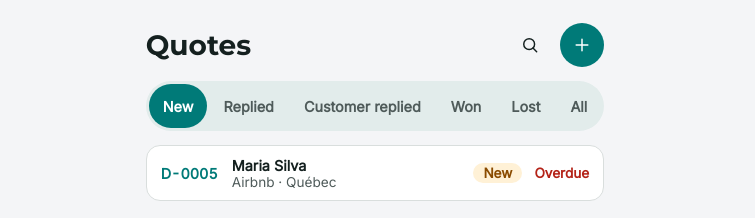
Scenario: QuotesPage › searches name, address, phone and reference ignoring case and accents
Check: the link "D-0005 Maria Silva Airbnb · Québec New Overdue" is shown, box top-left (146, 145), bottom-right (604, 201)
Click the button named "Search quotes": (530, 45) top-left (508, 23), bottom-right (552, 67)
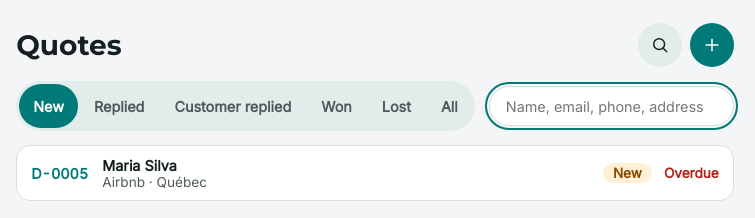
In the search field named "Search quotes": (611, 106) top-left (489, 86), bottom-right (734, 126), type "sao PAULO"
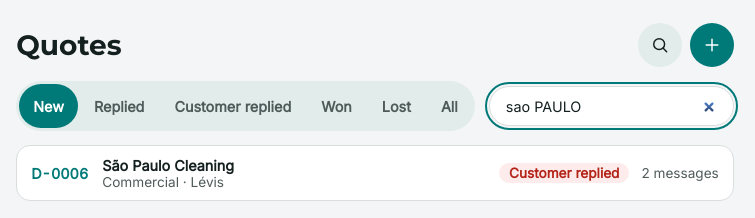
Check: the link "São Paulo Cleaning" is shown, box top-left (16, 145), bottom-right (734, 201)
Check: the link "Maria Silva" is gone
Replace the text in the search field named "Search quotes" with "levis": (611, 106) top-left (489, 86), bottom-right (734, 126)
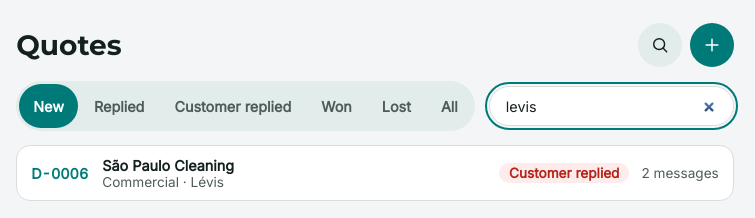
Check: the link "São Paulo Cleaning" is shown, box top-left (16, 145), bottom-right (734, 201)
Replace the text in the search field named "Search quotes" with "zzz": (611, 106) top-left (489, 86), bottom-right (734, 126)
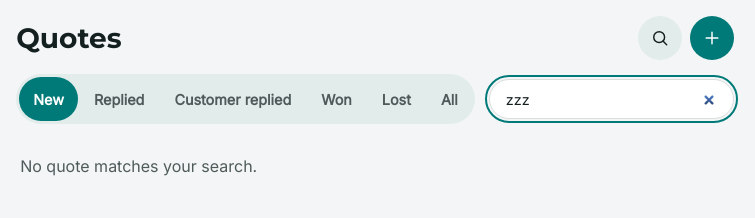
Check: the text "No quote matches your search." is shown, box top-left (20, 156), bottom-right (257, 176)
